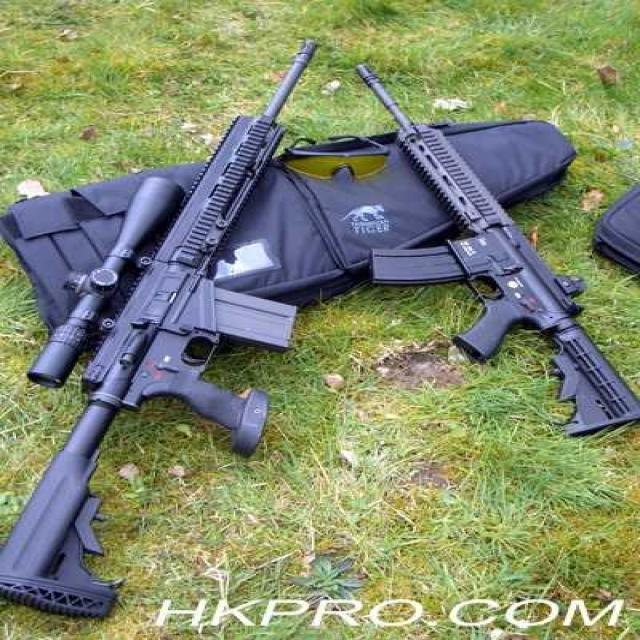Rifle: (345, 41, 640, 443)
RifleTel: (9, 32, 320, 640)
